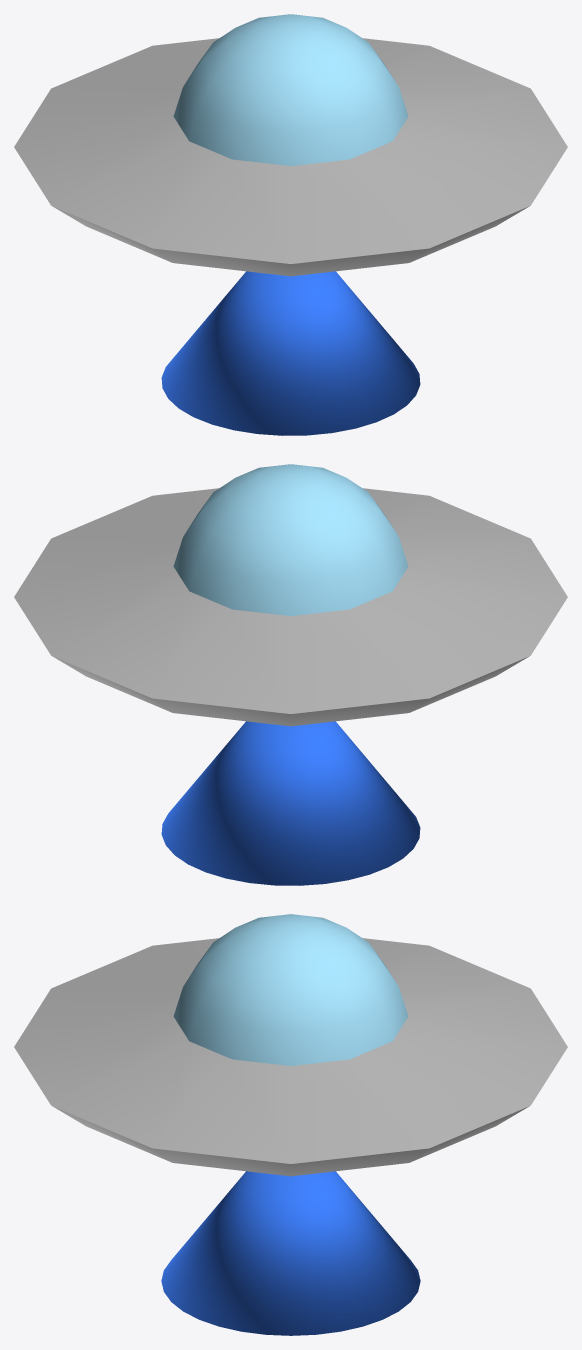
File: UFO.glb
3 views of the same model, one above another, from view 1: azimuth 30°, elevation 25°; view 2: azimuth 150°, elevation 25°; view 3: azimuth 270°, elevation 25° (orthographic).
Parts seen in each view (by area): view 1: UFO.001; view 2: UFO.001; view 3: UFO.001.
Boxes of the visible parts, box(x1,y1,x2,y2) form: UFO.001: box(14, 14, 567, 435); UFO.001: box(14, 464, 567, 885); UFO.001: box(14, 914, 567, 1335).
Bounding box in the file's own units: 0.8317 × 0.5913 × 0.8317.
1 material, 1 textured.
